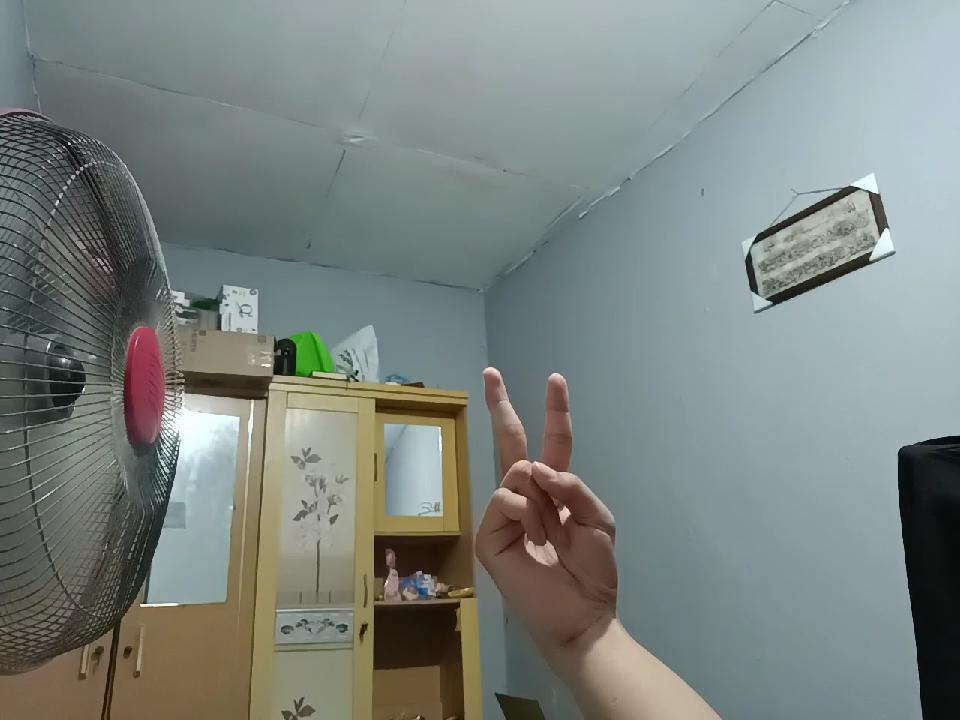scissors: (475, 352, 611, 626)
